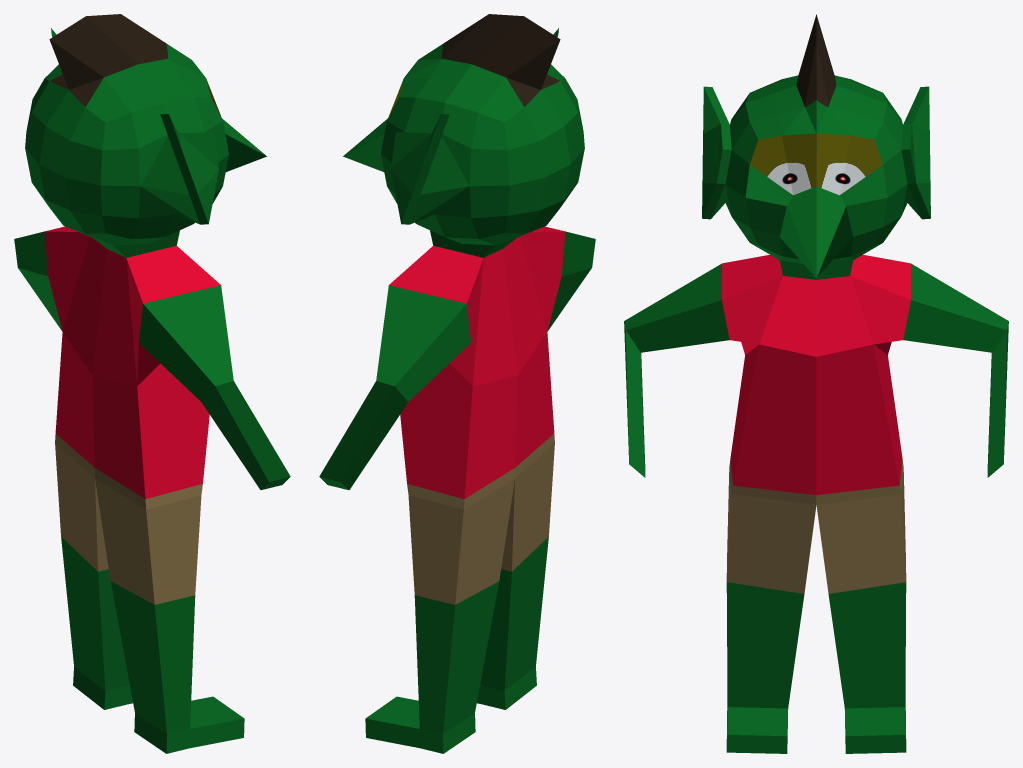
File: Goblin.fbx
The picture shows the model from 3 angles, left to right: view 1: azimuth 30°, elevation 25°; view 2: azimuth 150°, elevation 25°; view 3: azimuth 270°, elevation 25°; orthographic projection. The views are drawn at different scales.
Visible parts, largest first — view 1: Cube.001; view 2: Cube.001; view 3: Cube.001.
Boxes of the visible parts, bbox=[...] form: Cube.001: bbox=[14, 14, 290, 753]; Cube.001: bbox=[319, 14, 595, 753]; Cube.001: bbox=[624, 14, 1008, 753].
Size of the model in its own units: 216 by 649 by 331.
3 materials, 1 textured.
